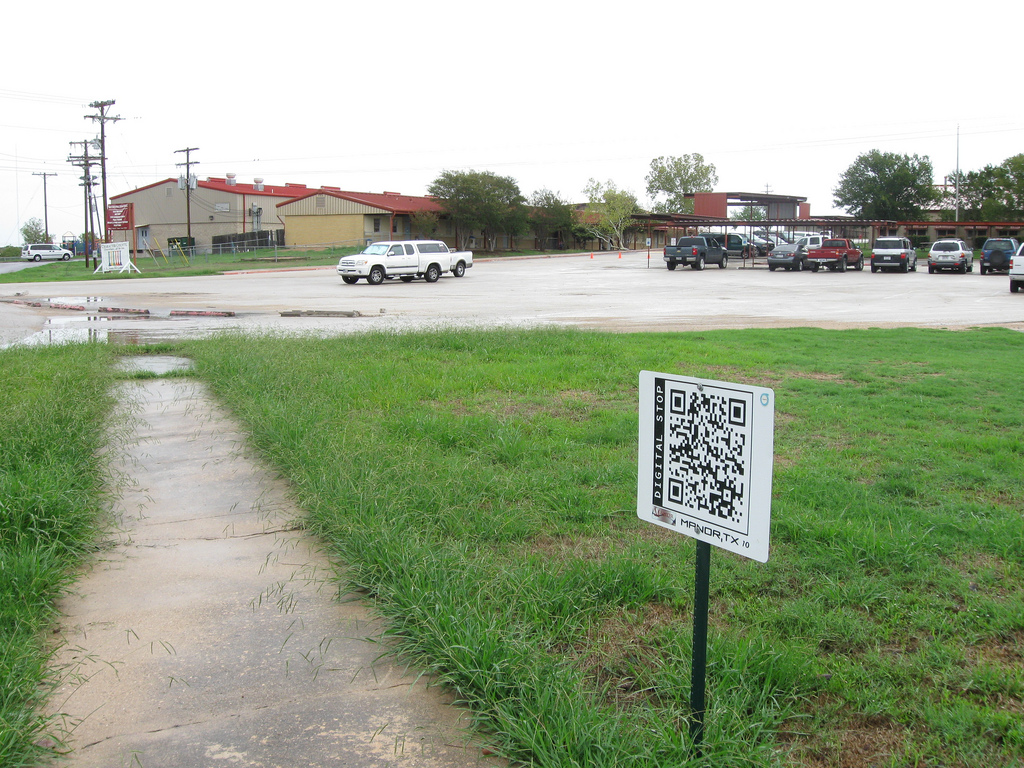QR-CODE: (668, 389, 745, 524)
